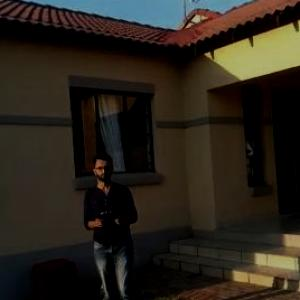follow: (77, 149, 147, 299)
